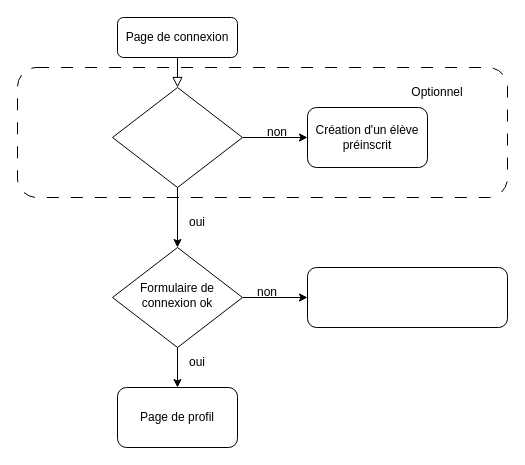
The diagram is 525 pixels wide and 465 high, and some of its shapes have lost their labels. The shapes that lost their labels are listed below. From the top down, each one's box as (x1, y1, x2, y2) in pixels, then its label:
(112, 86, 242, 188): L'utilisateur a un compte
(306, 266, 508, 328): Gestion de l'erreur (demande de mot de passe ?)
